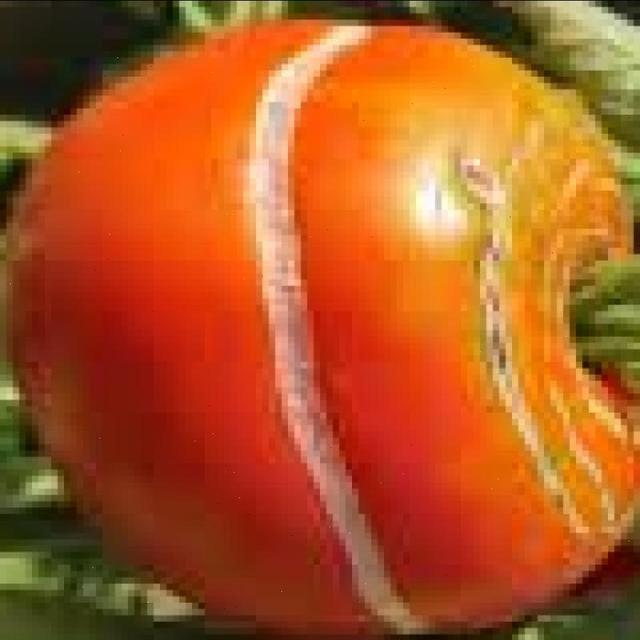Cracking Fruit: (116, 208, 369, 407)
